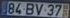3: (46, 3, 55, 16)
4: (14, 2, 22, 15)
7: (55, 4, 63, 17)
8: (7, 1, 15, 14)
B: (24, 2, 34, 15)
V: (34, 3, 44, 16)
